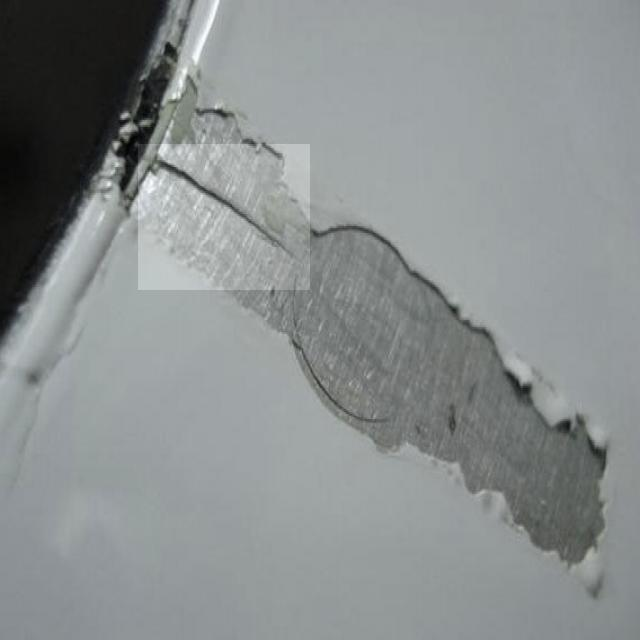crack: (139, 146, 311, 292)
